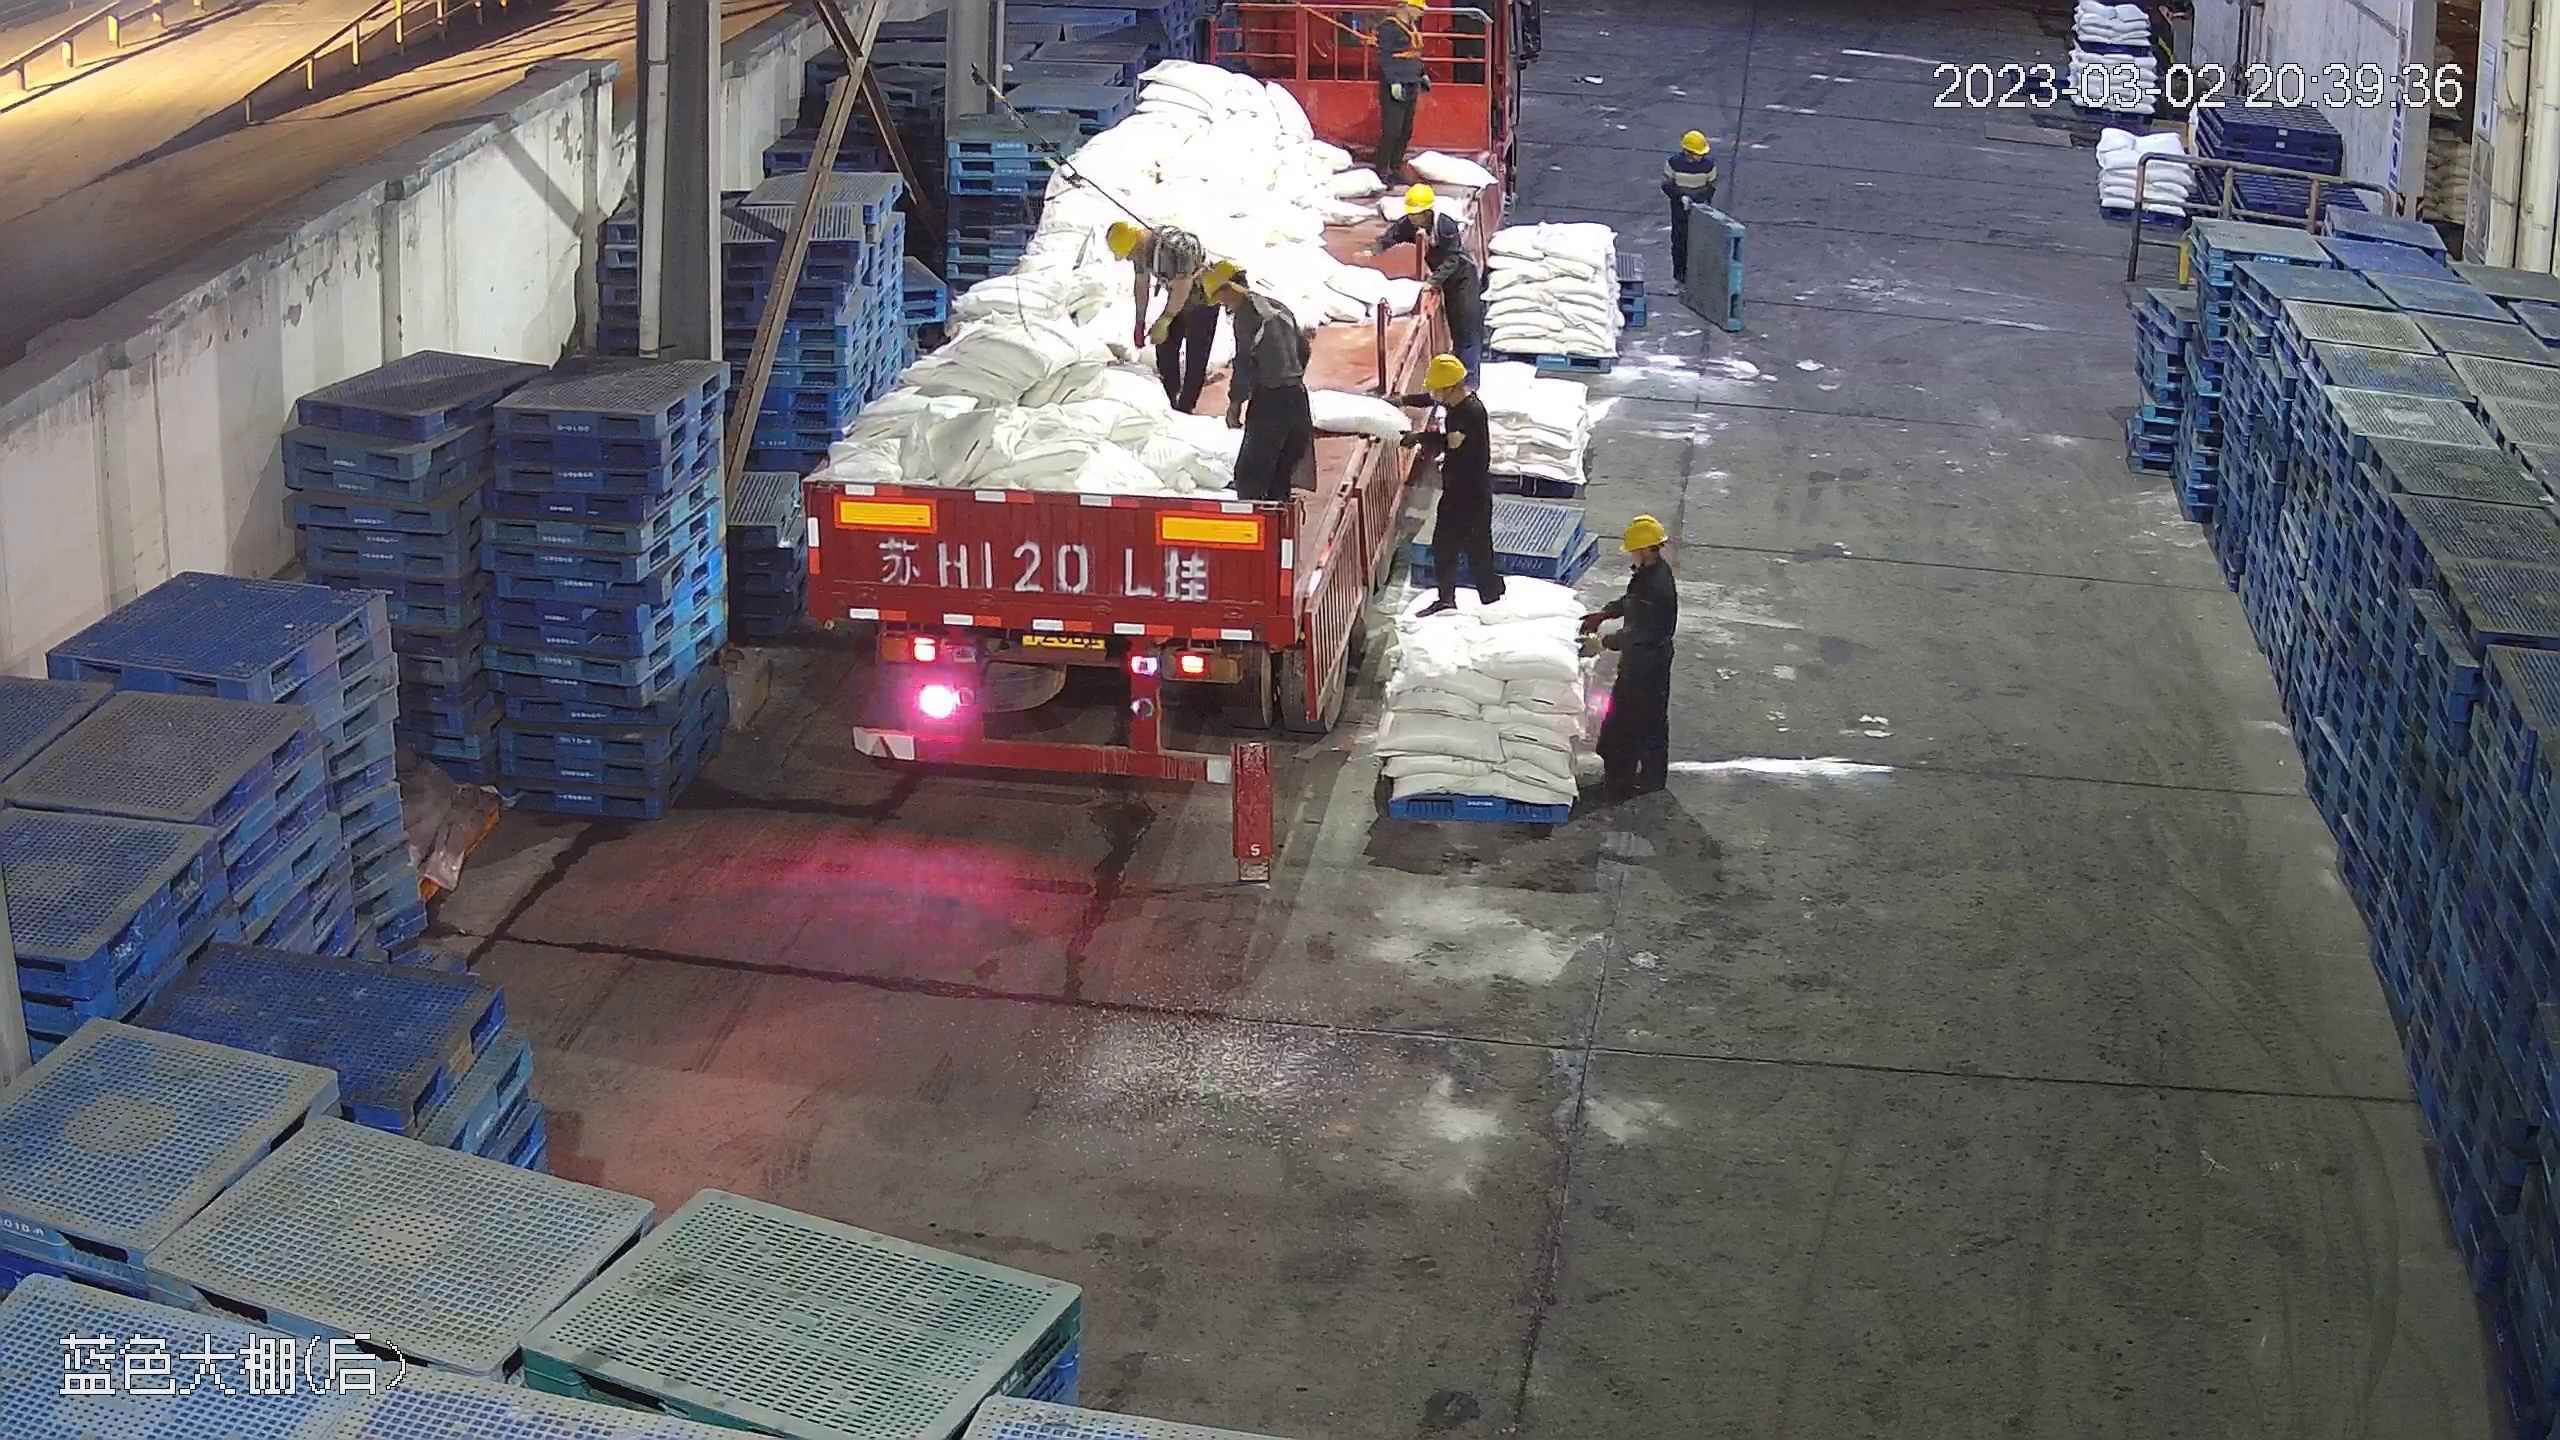belt: (1240, 293, 1312, 368), (1143, 222, 1213, 282), (1365, 14, 1427, 61), (1405, 206, 1457, 258)
head: (1200, 261, 1294, 339), (1604, 513, 1676, 611), (1413, 355, 1492, 433), (1102, 216, 1188, 282), (1387, 182, 1461, 249), (1669, 129, 1715, 179)
helmet: (1200, 256, 1245, 299), (1618, 513, 1666, 552), (1420, 353, 1469, 391), (1102, 218, 1139, 263), (1399, 182, 1436, 210), (1682, 128, 1708, 149)
people: (1574, 511, 1682, 807), (1200, 263, 1314, 516), (1354, 178, 1475, 399), (1408, 350, 1500, 616), (1102, 213, 1219, 409), (1661, 126, 1729, 289), (1370, 1, 1431, 176)
truck: (798, 14, 1496, 780)
